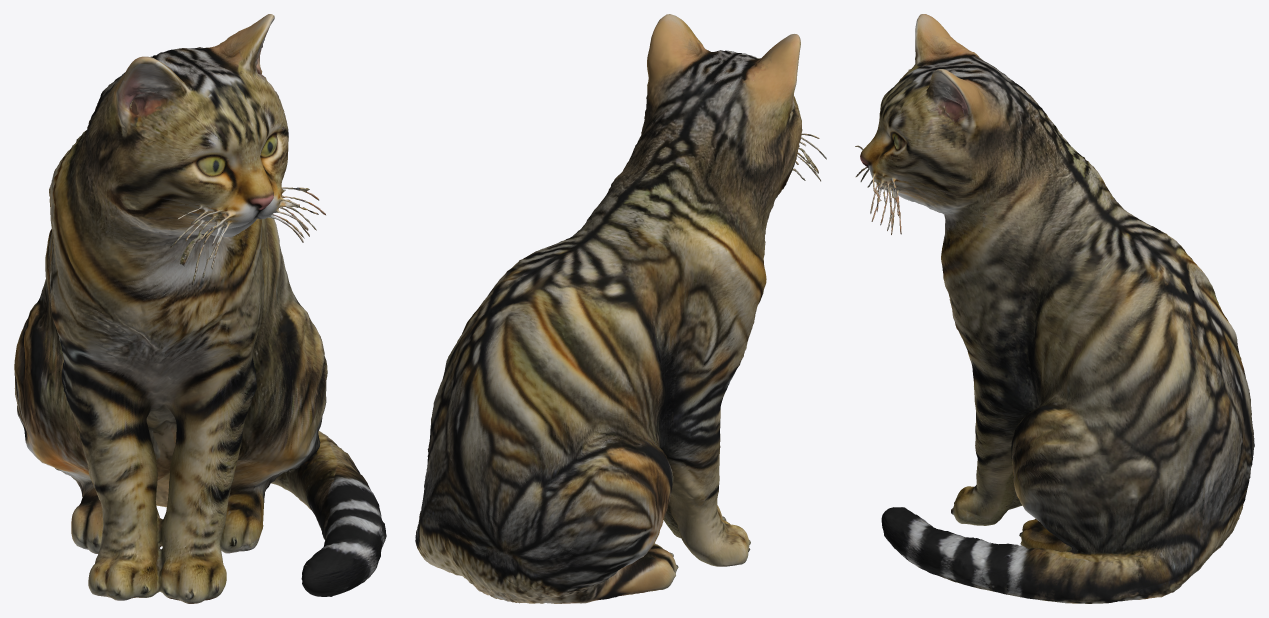
The model's file is cat.glb.
3 views of the same model, side by side, from view 1: azimuth 30°, elevation 25°; view 2: azimuth 150°, elevation 25°; view 3: azimuth 270°, elevation 25° (orthographic). The views are drawn at different scales.
Size of the model in its own units: 1.13 by 1.92 by 1.47.
1 material, 1 textured.
